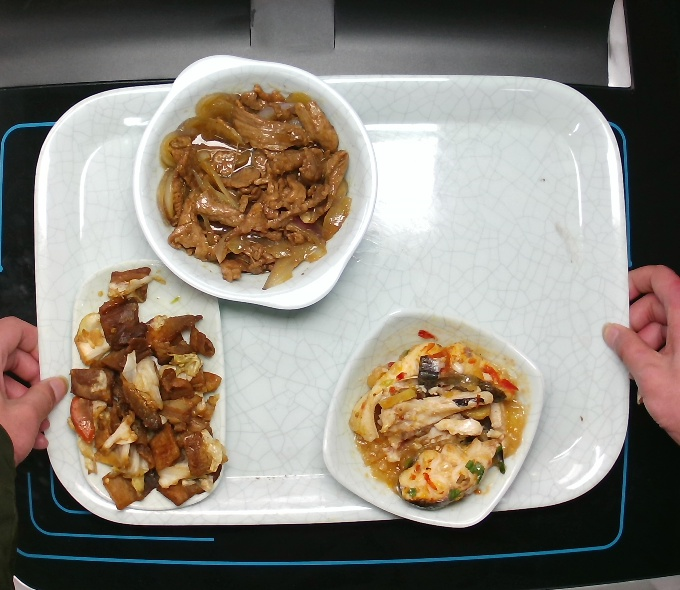wcq-DuoJiaoYuKuai: (342, 332, 529, 522)
wcq-PaoCaiRouPian: (61, 258, 229, 519)
wcq-YangCongRouPian: (154, 75, 353, 296)
